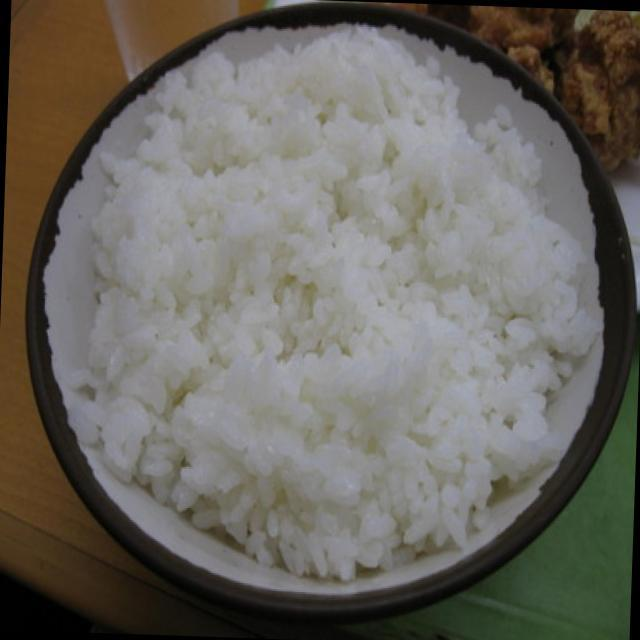Rice: (79, 21, 594, 574)
